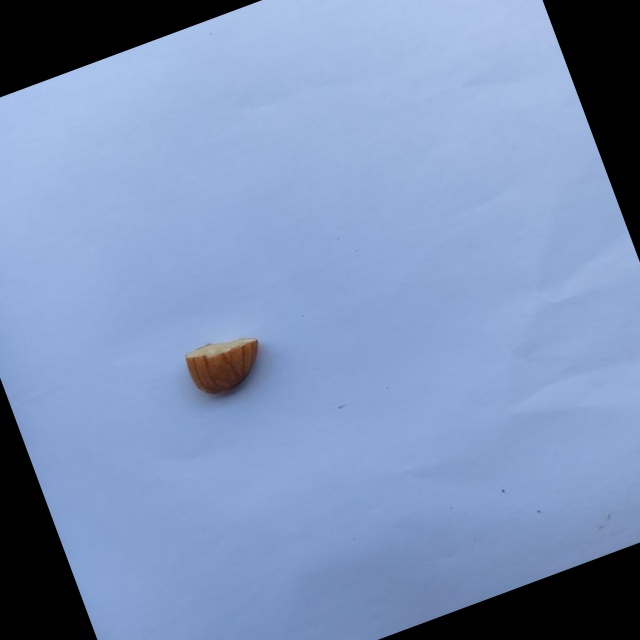grade4: (174, 320, 281, 411)
